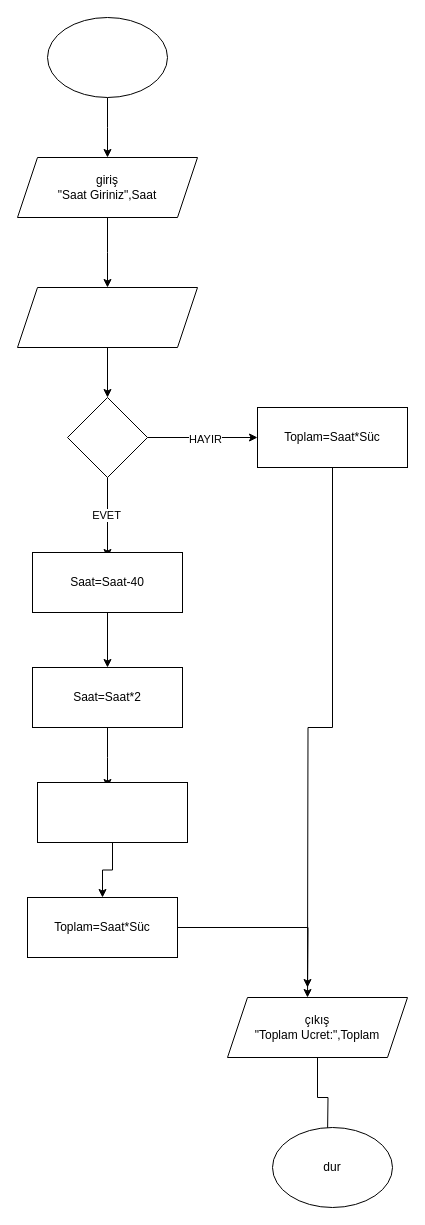
The diagram is 425 pixels wide and 1225 high, and some of its shapes have lost their labels. Here are the shapes that lost their labels. From the top down, the centre of each, then its label:
point 107,57: başla
point 107,317: giriş "Saat Ücreti Giriniz ",Süc
point 107,437: Saat>40
point 112,812: Saat=Saat+ 40
